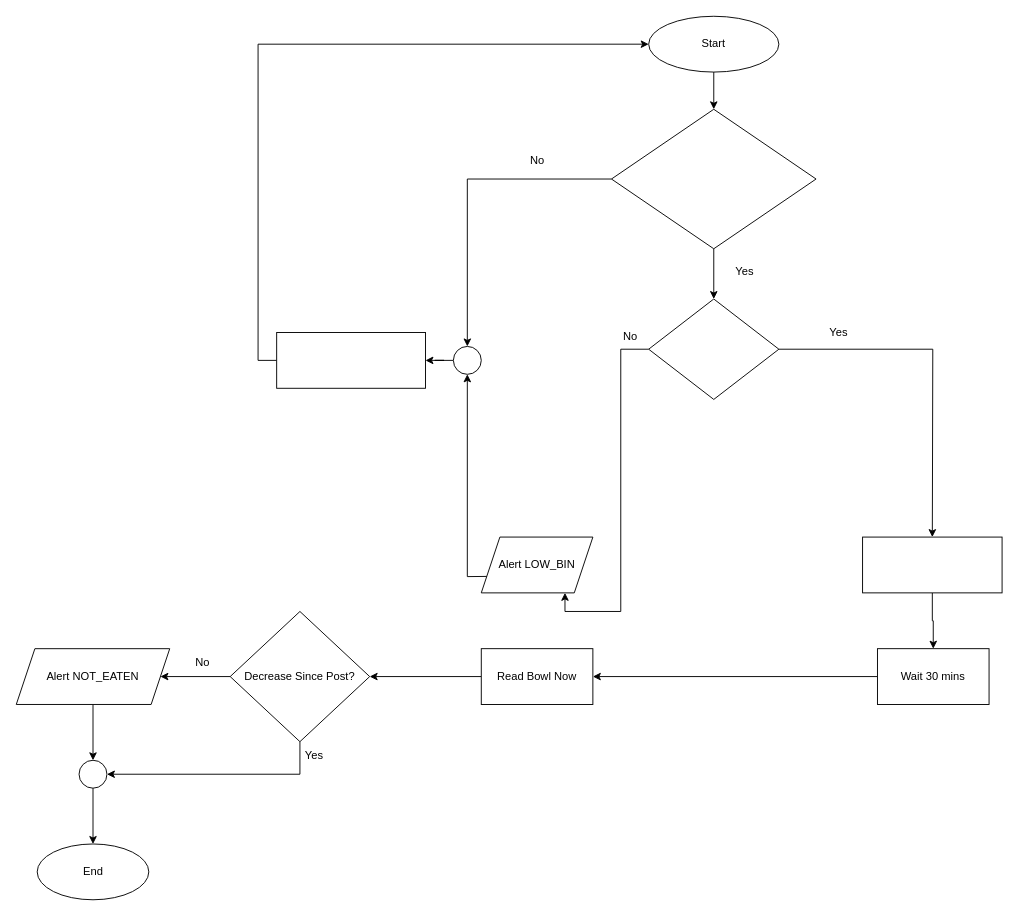
Some shapes in this 1018 by 916 pixel diagram are drawn without their labels. The centre of each missing label's shape, as x and y in pixels:
Bin Level OK?: point (713, 348)
Dispense Motor ON: point (932, 564)
Time == Scheduled Time?: point (713, 178)
Wait 1 min: point (350, 360)
